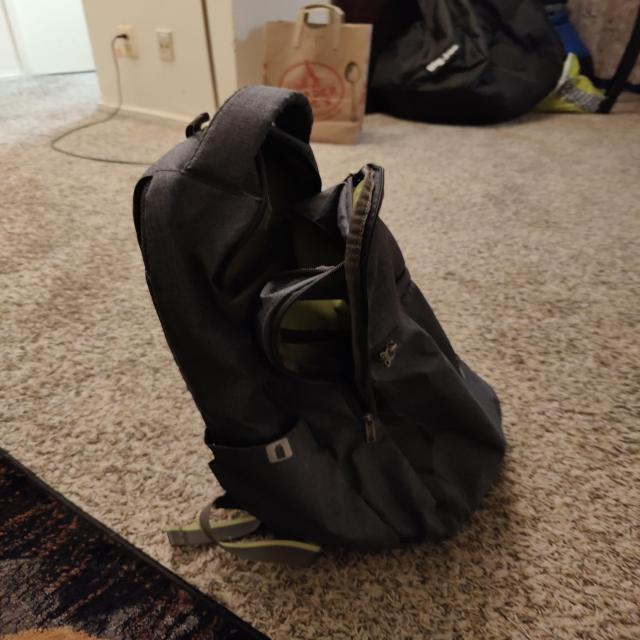bag: (141, 88, 504, 551)
